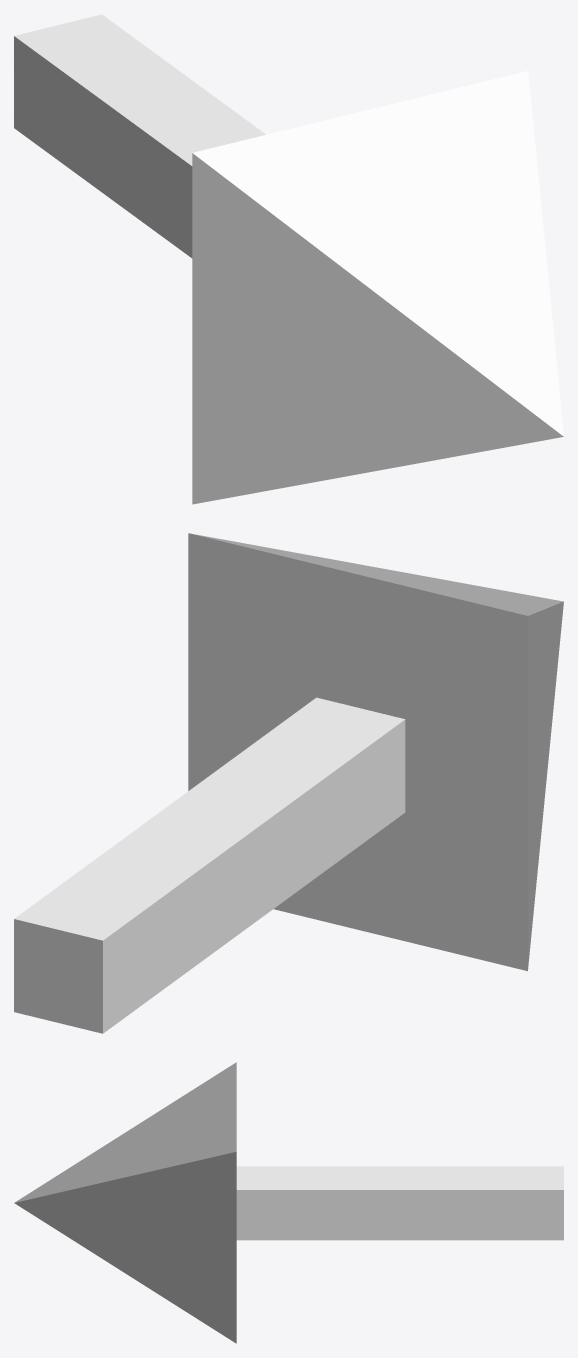
Rendered from Arrow.fbx.
3 renders of one model, top to bottom at view 1: azimuth 30°, elevation 25°; view 2: azimuth 150°, elevation 25°; view 3: azimuth 270°, elevation 25°, orthographic. The views are drawn at different scales.
Parts seen in each view (by area): view 1: node_id7, node_id9; view 2: node_id7, node_id9; view 3: node_id7, node_id9.
Part boxes in pixels (x1,y1,x2,y2): node_id7: [192, 71, 563, 504]; node_id9: [14, 14, 265, 258]; node_id7: [188, 533, 563, 971]; node_id9: [14, 697, 405, 1033]; node_id7: [14, 1062, 236, 1343]; node_id9: [236, 1166, 563, 1240].
Size of the model in its own units: 5.1 by 5.1 by 13.22.
Materials: 2 (2 with a texture image).
